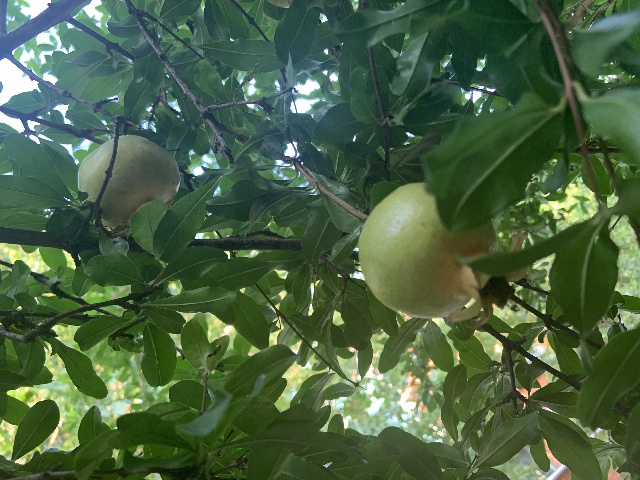mid-growth: (357, 182, 529, 329), (77, 134, 180, 237)
